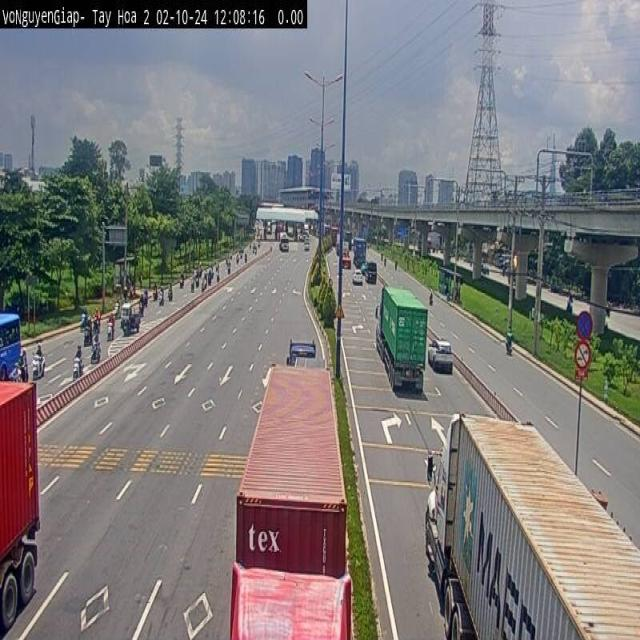car: (427, 339, 453, 374)
container-truck: (424, 411, 639, 639), (231, 357, 364, 640), (0, 378, 40, 636), (374, 284, 428, 392)
motorcycle: (30, 351, 45, 380), (72, 354, 83, 380)
person: (505, 323, 513, 354)
